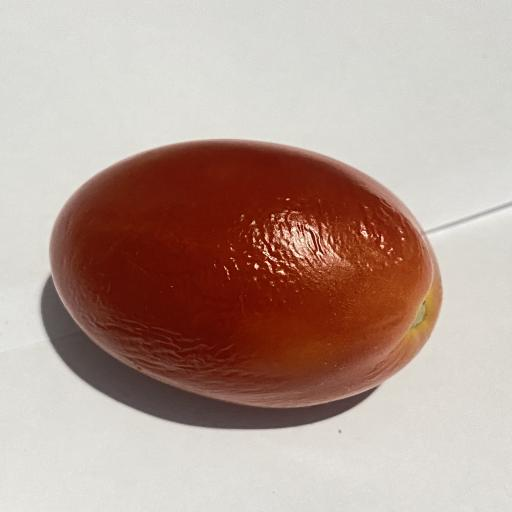spoiled: (51, 140, 441, 407)
